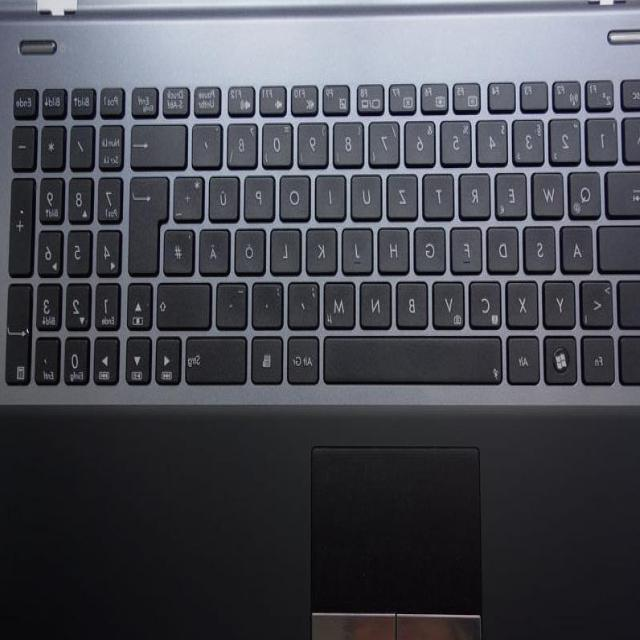0: (264, 119, 296, 166)
1: (587, 113, 620, 161)
2: (551, 114, 583, 162)
3: (515, 115, 547, 162)
4: (478, 116, 510, 162)
5: (442, 117, 474, 163)
6: (406, 117, 438, 163)
7: (370, 118, 402, 165)
8: (334, 118, 366, 165)
9: (299, 119, 331, 166)
a: (562, 221, 596, 271)
accent: (194, 120, 224, 166)
ae: (201, 224, 233, 274)
alt-left: (508, 333, 542, 383)
altgr-right: (288, 332, 321, 382)
b: (397, 277, 431, 327)
c: (470, 276, 504, 326)
caret: (625, 112, 640, 160)
comma: (290, 277, 322, 327)
d: (488, 222, 521, 272)
del: (133, 120, 189, 167)
e: (497, 168, 529, 216)
enter: (131, 172, 171, 274)
f: (452, 223, 484, 271)
g: (416, 222, 448, 272)
h: (380, 222, 412, 272)
hash: (164, 225, 197, 273)
i: (317, 171, 349, 218)
j: (344, 222, 376, 272)
k: (307, 224, 340, 272)
keyboard: (0, 62, 640, 400)
l: (272, 224, 304, 272)
less: (582, 276, 616, 326)
m: (325, 277, 358, 327)
minus: (217, 279, 251, 326)
n: (361, 277, 394, 327)
o: (281, 171, 313, 219)
oe: (236, 225, 268, 272)
p: (245, 172, 277, 219)
plus: (175, 172, 207, 220)
point: (254, 278, 286, 328)
q: (570, 167, 604, 217)
r: (461, 169, 493, 216)
s: (525, 223, 558, 271)
shift-left: (620, 276, 640, 328)
shift-lock: (598, 221, 640, 271)
shift-right: (158, 278, 214, 328)
space: (325, 332, 505, 382)
ss: (228, 119, 260, 166)
strg-left: (621, 331, 640, 383)
strg-right: (185, 333, 249, 383)
t: (425, 169, 457, 216)
tab: (607, 166, 640, 216)
u: (352, 170, 385, 218)
ue: (210, 172, 242, 219)
v: (434, 277, 468, 327)
w: (533, 167, 567, 217)
x: (508, 275, 541, 325)
y: (544, 277, 578, 327)
z: (389, 170, 421, 218)
